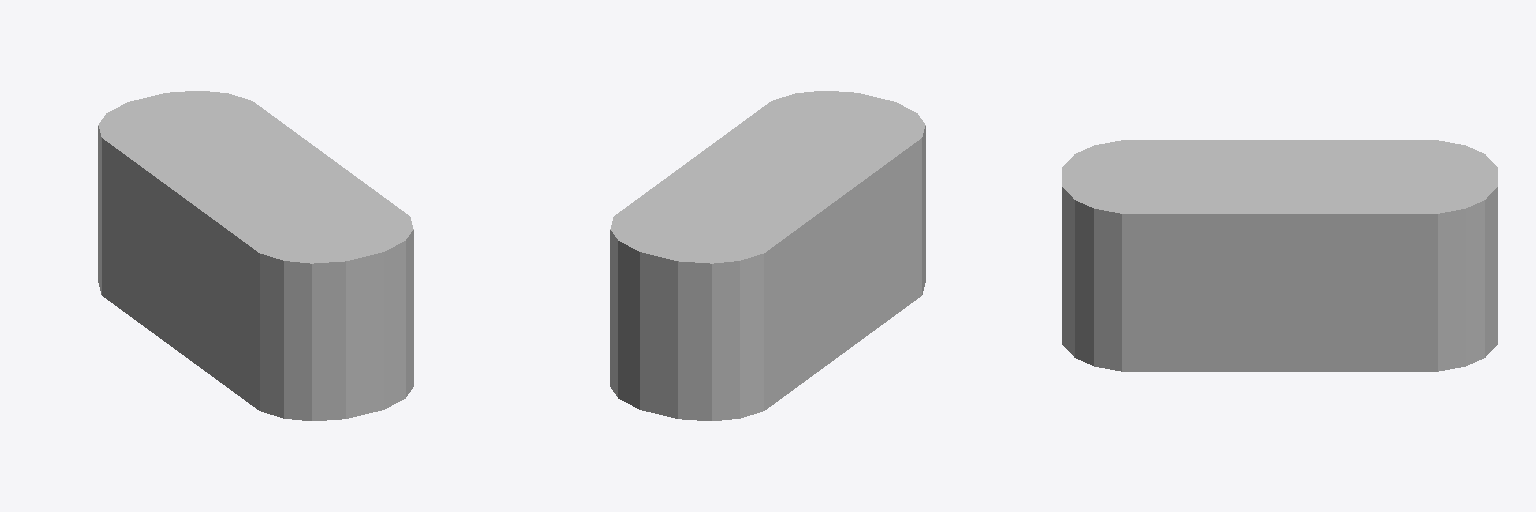
The model's file is smallWall.obj.
3 renders of one model, left to right at view 1: azimuth 30°, elevation 25°; view 2: azimuth 150°, elevation 25°; view 3: azimuth 270°, elevation 25°, orthographic.
Parts seen in each view (by area): view 1: smallWall.obj; view 2: smallWall.obj; view 3: smallWall.obj.
Boxes of the visible parts, x1=… form: smallWall.obj: x1=98, y1=91, x2=413, y2=420; smallWall.obj: x1=610, y1=91, x2=925, y2=420; smallWall.obj: x1=1062, y1=140, x2=1497, y2=371.
Bounding box in the file's own units: 0.4 × 0.4 × 1.